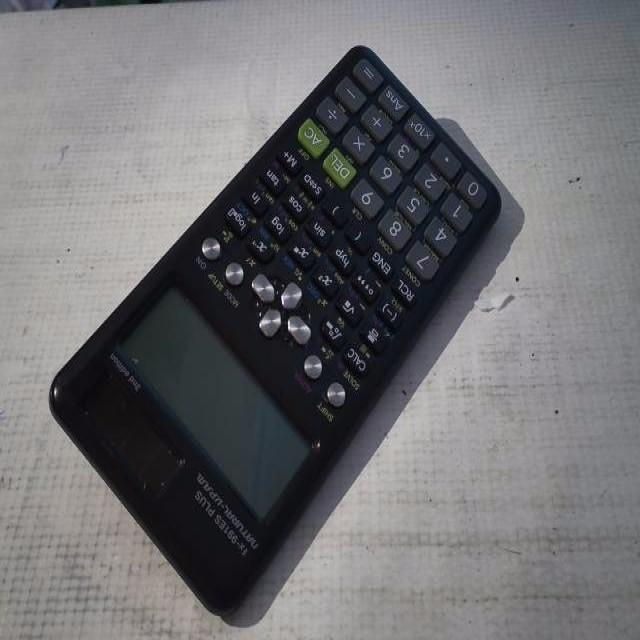Calculator: (46, 41, 505, 620)
